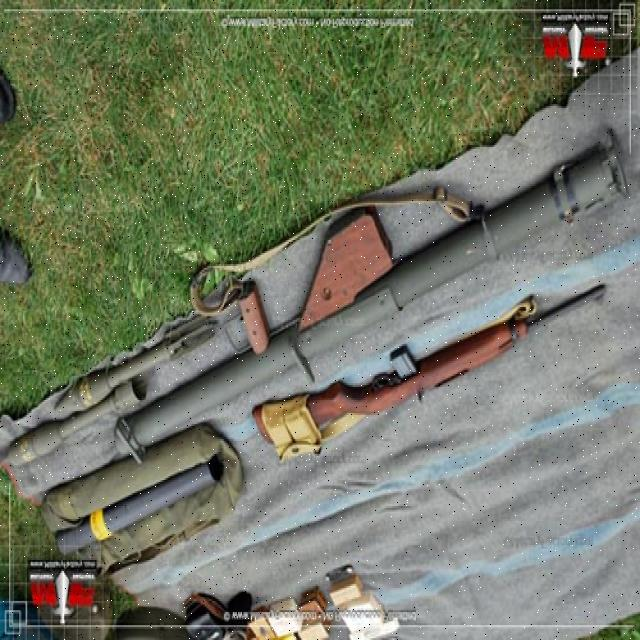bazooka: (113, 133, 634, 463)
